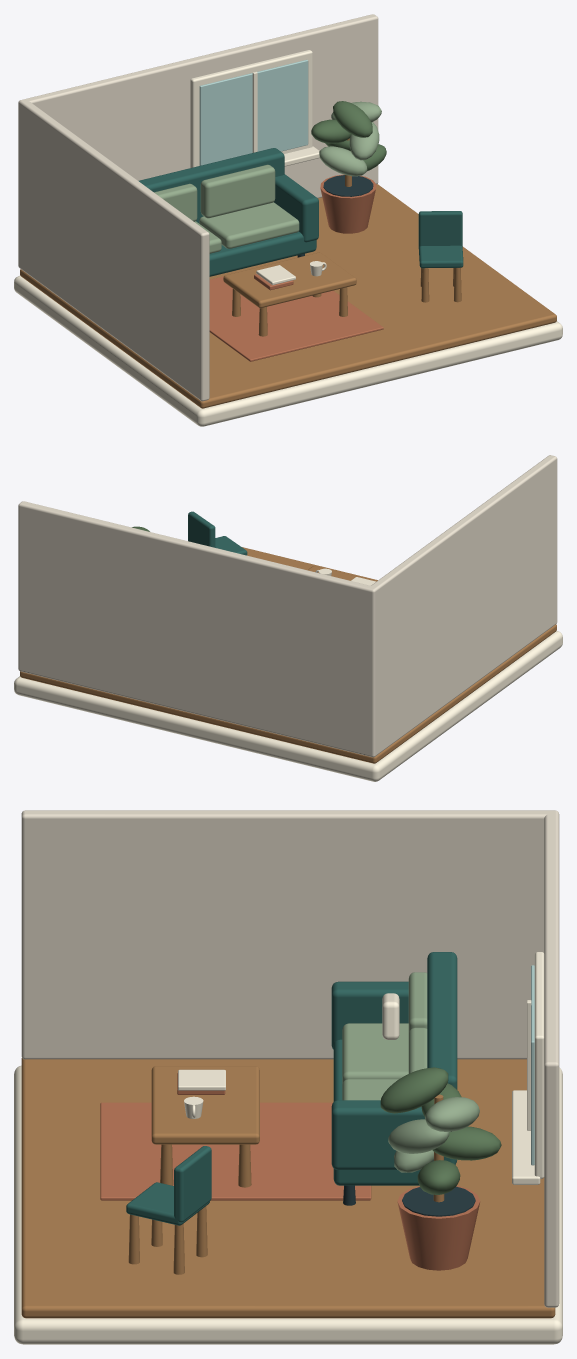
File: destination-lounge.glb
3 renders of one model, top to bottom at view 1: azimuth 30°, elevation 25°; view 2: azimuth 150°, elevation 25°; view 3: azimuth 270°, elevation 25°, orthographic. The views are drawn at different scales.
Parts seen in each view (by area): view 1: side-wall, floor, back-wall, foundation, window-glass, rug, back (×2), back-cushion (×2), top, leaf (×4), seat-cushion, window-frame (+6 smaller); view 2: back-wall, side-wall, foundation, floor, back; view 3: side-wall, floor, foundation, rug, leaf (×6), back-wall, arm (×2), top, back (×2), seat-cushion (×2), ceramic-pot, window-frame (+8 smaller).
Boxes of the visible parts, bbox=[...] form: side-wall: bbox=[20, 100, 209, 401]; floor: bbox=[20, 184, 556, 408]; back-wall: bbox=[18, 14, 378, 269]; foundation: bbox=[14, 275, 562, 426]; window-glass: bbox=[199, 59, 308, 165]; rug: bbox=[209, 276, 383, 361]; back (×2): bbox=[139, 148, 462, 246]; back-cushion (×2): bbox=[154, 164, 275, 221]; top: bbox=[223, 252, 356, 308]; leaf (×4): bbox=[311, 101, 379, 176]; seat-cushion: bbox=[199, 202, 299, 248]; window-frame: bbox=[190, 50, 312, 167]; back-wall: bbox=[18, 501, 377, 757]; side-wall: bbox=[371, 455, 557, 754]; foundation: bbox=[14, 631, 562, 781]; floor: bbox=[20, 547, 556, 763]; back: bbox=[188, 511, 215, 547]; side-wall: bbox=[21, 810, 551, 1059]; floor: bbox=[21, 1058, 555, 1318]; foundation: bbox=[14, 1065, 562, 1344]; rug: bbox=[100, 1102, 371, 1200]; leaf (×6): bbox=[380, 1067, 501, 1194]; back-wall: bbox=[544, 810, 559, 1307]; arm (×2): bbox=[331, 981, 455, 1169]; top: bbox=[151, 1066, 259, 1144]; back (×2): bbox=[174, 952, 457, 1222]; seat-cushion (×2): bbox=[342, 1023, 408, 1100]; ceramic-pot: bbox=[397, 1185, 480, 1270]; window-frame: bbox=[534, 952, 544, 1178].
Bounding box in the file's own units: 4.1 × 2.06 × 3.65.
